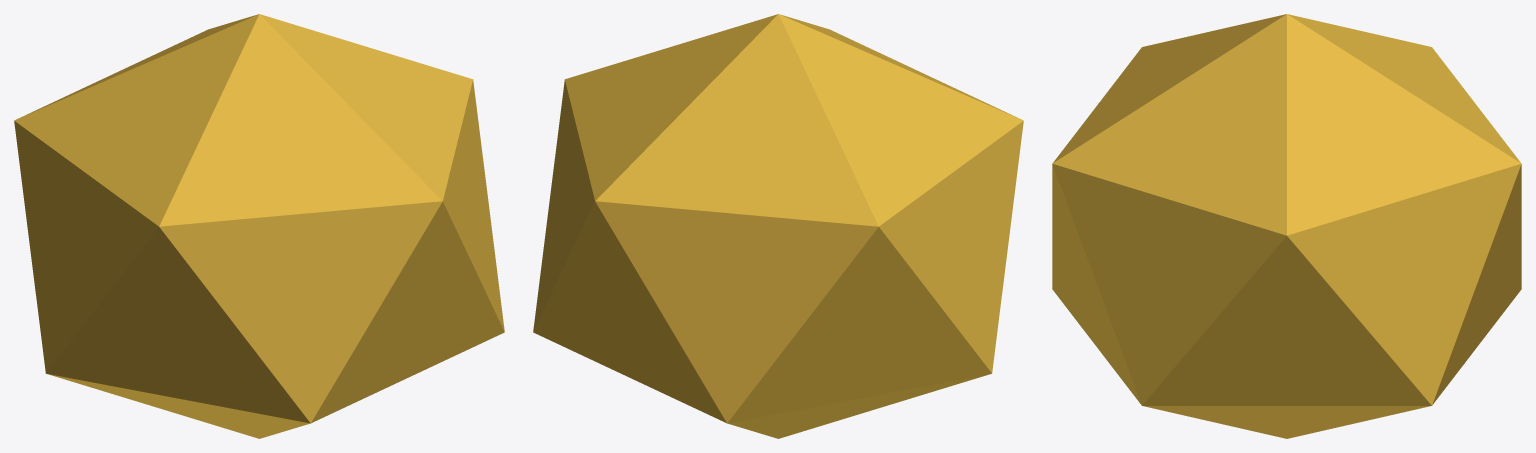
The model's file is fx_spark.glb.
3 views of the same model, side by side, from view 1: azimuth 30°, elevation 25°; view 2: azimuth 150°, elevation 25°; view 3: azimuth 270°, elevation 25° (orthographic).
Visible parts, largest first — view 1: fx_spark; view 2: fx_spark; view 3: fx_spark.
Boxes of the visible parts, x1,y1,x2,y2 form: fx_spark: (14, 14, 504, 438); fx_spark: (533, 14, 1023, 438); fx_spark: (1052, 14, 1521, 438).
Bounding box in the file's own units: 0.0537 × 0.051 × 0.051.
